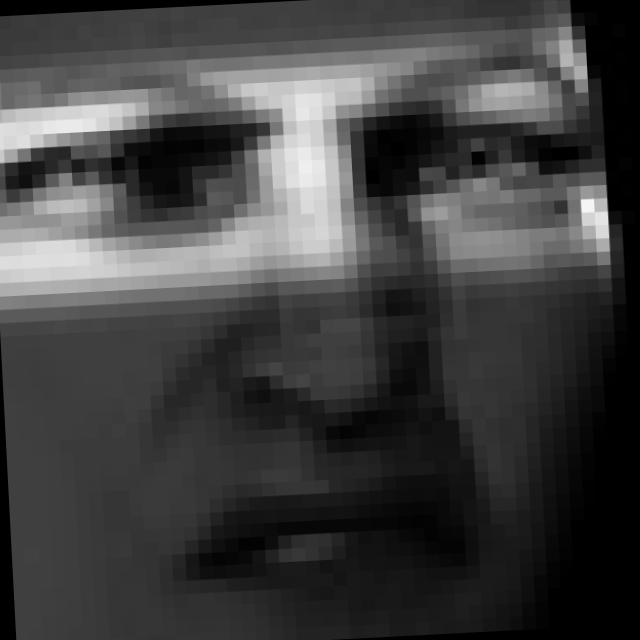disgust: (6, 41, 613, 640)
